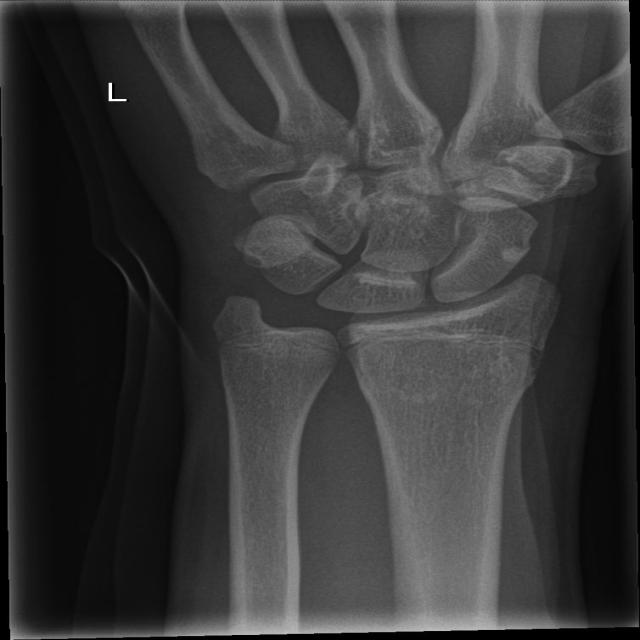fracture: (327, 313, 566, 371), (206, 314, 352, 378)
